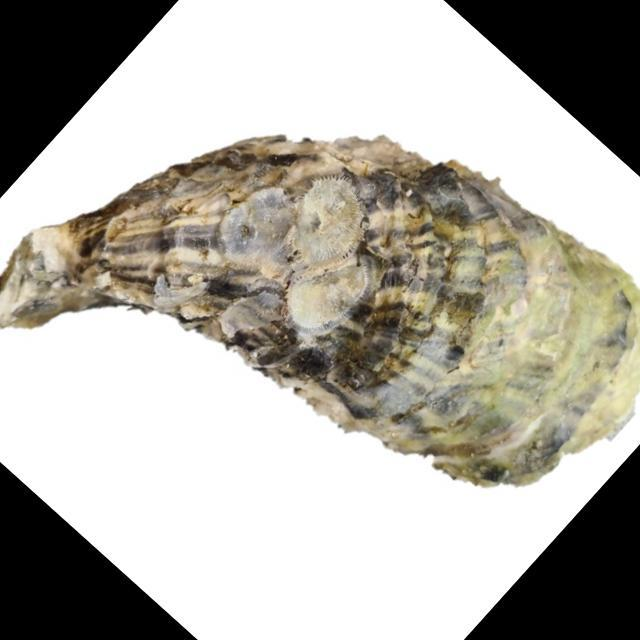Oyster- Indeterminate: (10, 135, 640, 489)
